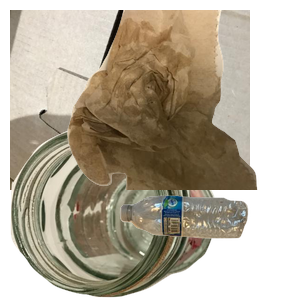cardboard: (10, 10, 250, 190)
glass: (10, 126, 220, 300)
plastic: (118, 193, 300, 300)
trash: (65, 10, 300, 190)
